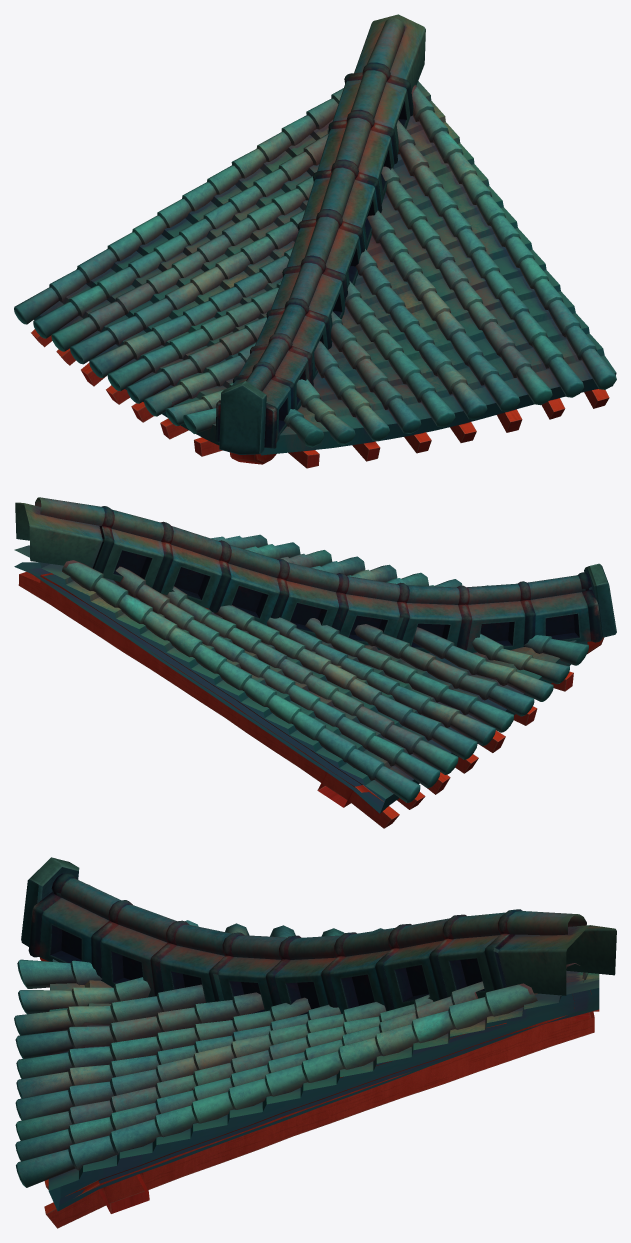
Rendered from SM_BigWall_roof_Angle.glb.
3 views of the same model, one above another, from view 1: azimuth 30°, elevation 25°; view 2: azimuth 150°, elevation 25°; view 3: azimuth 270°, elevation 25° (orthographic). The views are drawn at different scales.
Visible parts, largest first — view 1: SM_BigWall_roof_Angle_LOD0; view 2: SM_BigWall_roof_Angle_LOD0; view 3: SM_BigWall_roof_Angle_LOD0.
Boxes of the visible parts, box(x1,y1,x2,y2) form: SM_BigWall_roof_Angle_LOD0: box(14, 14, 616, 468); SM_BigWall_roof_Angle_LOD0: box(14, 497, 616, 828); SM_BigWall_roof_Angle_LOD0: box(14, 857, 616, 1228).
Size of the model in its own units: 4.93 by 2.82 by 4.93.
4 materials, 4 textured.
